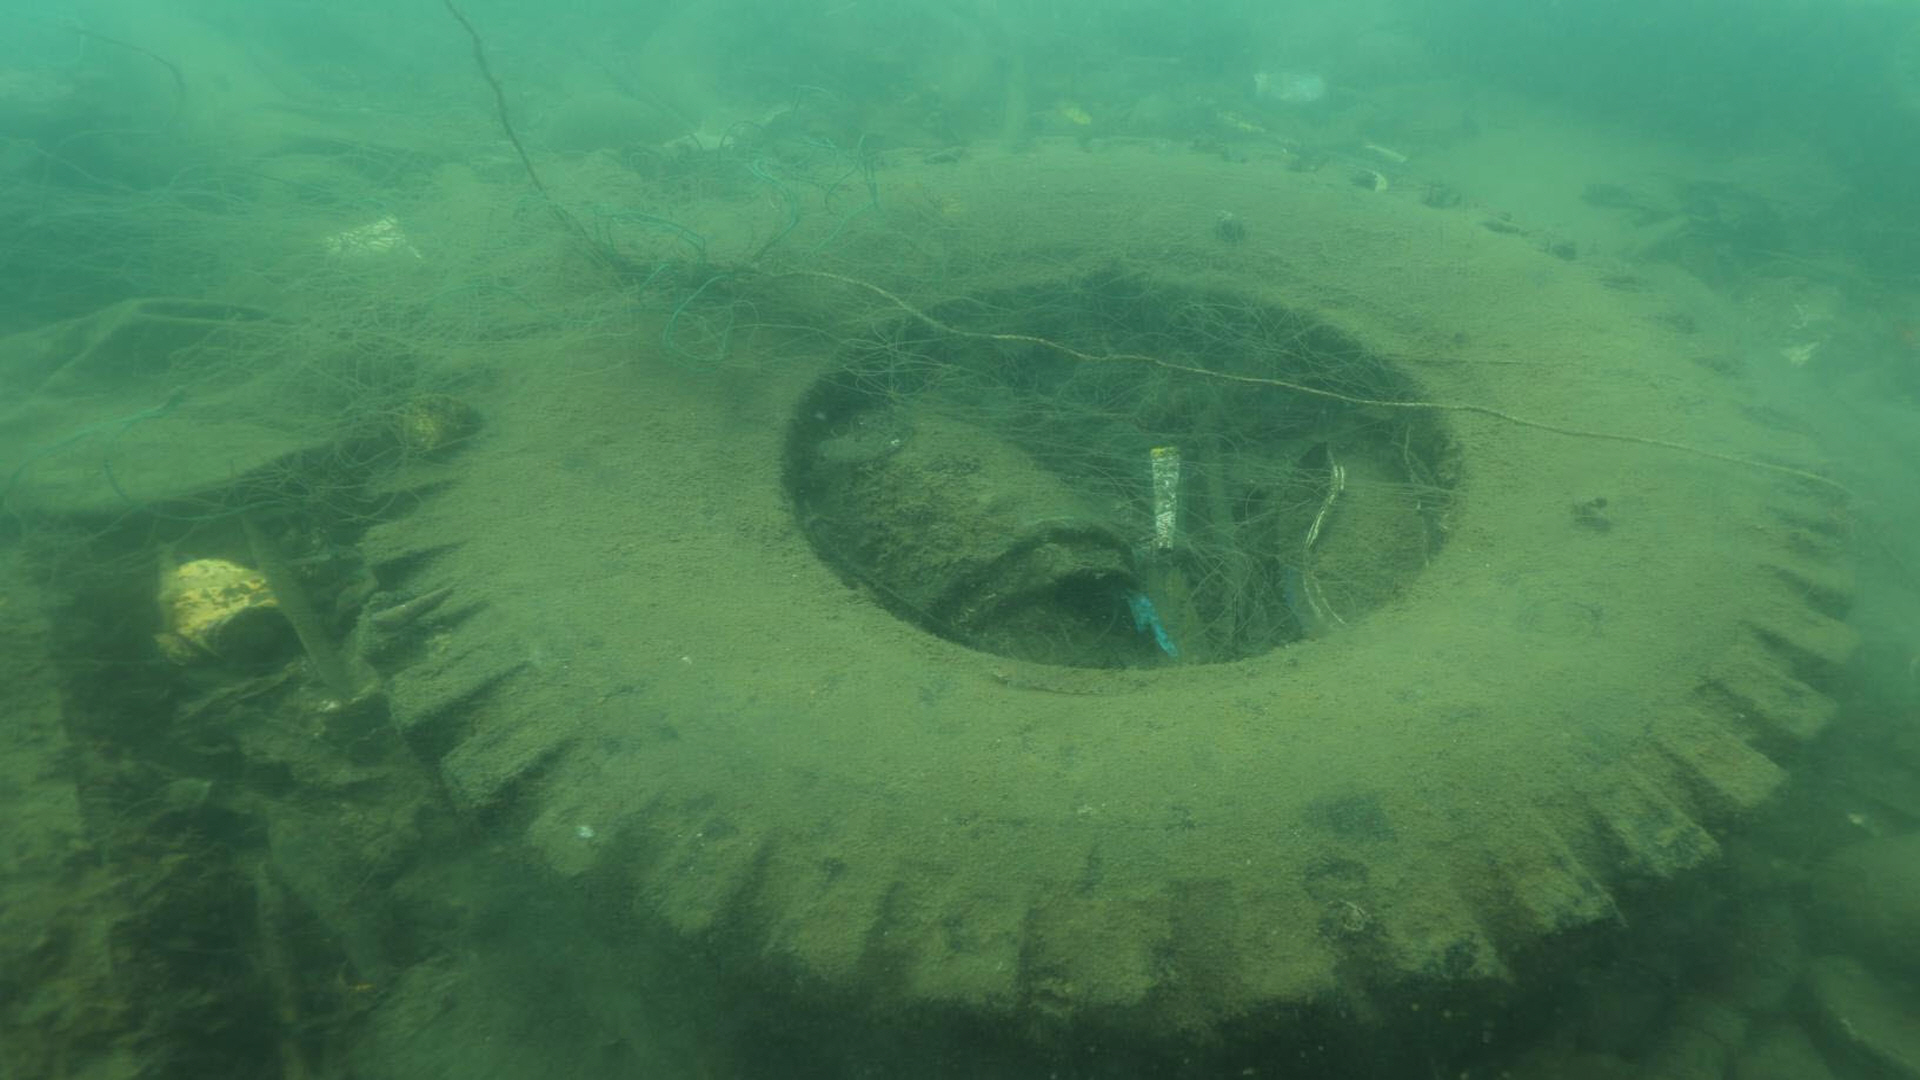tire: (361, 136, 1869, 1080)
